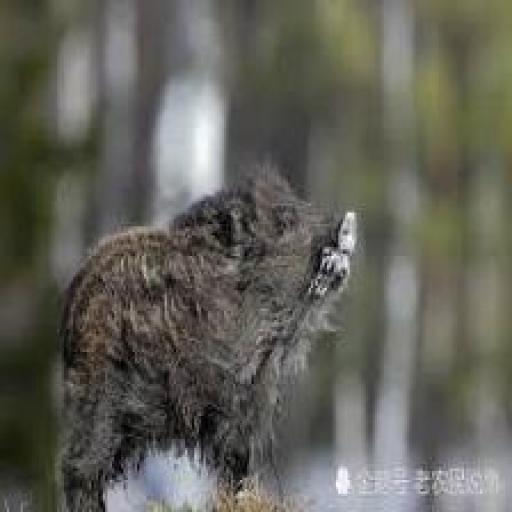Pig: (46, 155, 366, 512)
